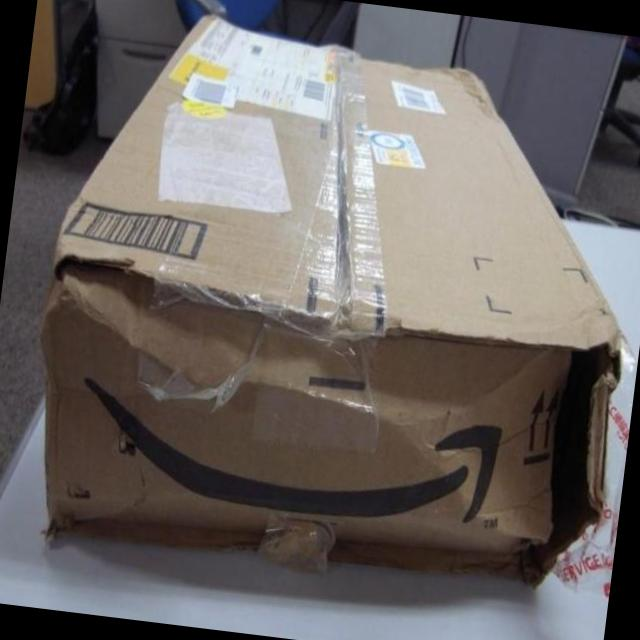box: (2, 135, 609, 611)
